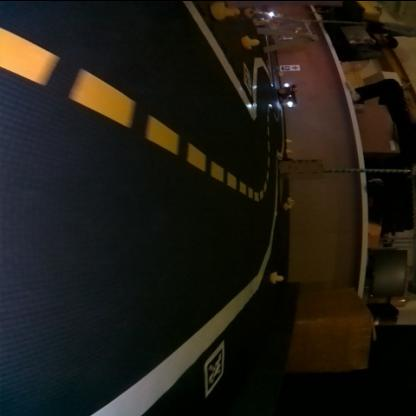Duckie: (212, 2, 240, 18), (243, 36, 257, 48), (272, 270, 284, 282), (246, 6, 258, 16), (284, 203, 292, 209), (254, 17, 262, 23), (288, 196, 296, 202), (286, 138, 294, 142), (285, 148, 291, 152)
Duckiebot: (279, 82, 297, 106)
Intersection sign: (292, 63, 299, 70)
QR code: (204, 340, 226, 396), (245, 61, 253, 91), (283, 63, 290, 70)
